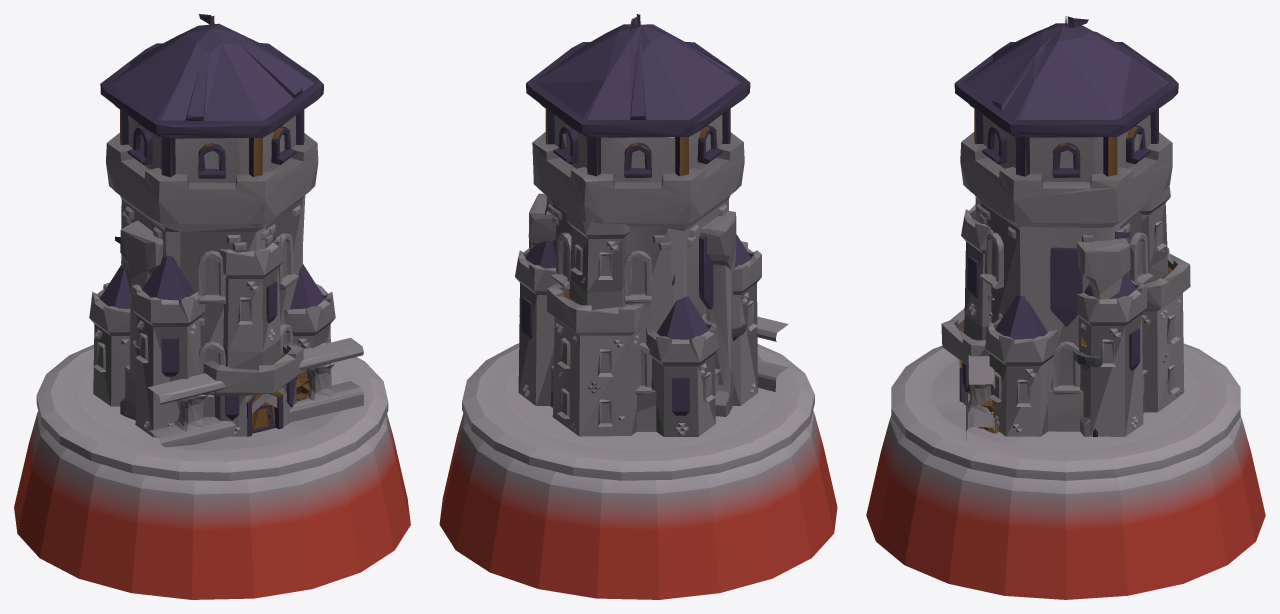
The model's file is fortress-s9-BjfEn4Dd.glb.
3 renders of one model, left to right at view 1: azimuth 30°, elevation 25°; view 2: azimuth 150°, elevation 25°; view 3: azimuth 270°, elevation 25°, orthographic.
Visible parts, largest first — view 1: sc_tower_0, sc_tower_1, sc_z0_2, sc_z2_2; view 2: sc_tower_0, sc_tower_1, sc_z0_2, sc_z2_2; view 3: sc_tower_0, sc_tower_1, sc_z0_2, sc_z2_2.
Part boxes in pixels (x1=…): sc_tower_0: x1=14, y1=23, x2=410, y2=599; sc_tower_1: x1=29, y1=14, x2=394, y2=538; sc_z0_2: x1=36, y1=220, x2=388, y2=480; sc_z2_2: x1=77, y1=337, x2=363, y2=450; sc_tower_0: x1=439, y1=24, x2=837, y2=599; sc_tower_1: x1=455, y1=14, x2=821, y2=538; sc_z0_2: x1=462, y1=193, x2=814, y2=480; sc_z2_2: x1=503, y1=316, x2=788, y2=449; sc_tower_0: x1=866, y1=23, x2=1265, y2=599; sc_tower_1: x1=882, y1=16, x2=1249, y2=535; sc_z0_2: x1=891, y1=238, x2=1240, y2=480; sc_z2_2: x1=932, y1=354, x2=1199, y2=449.
Size of the model in its own units: 13.6 by 18.8 by 13.6.
